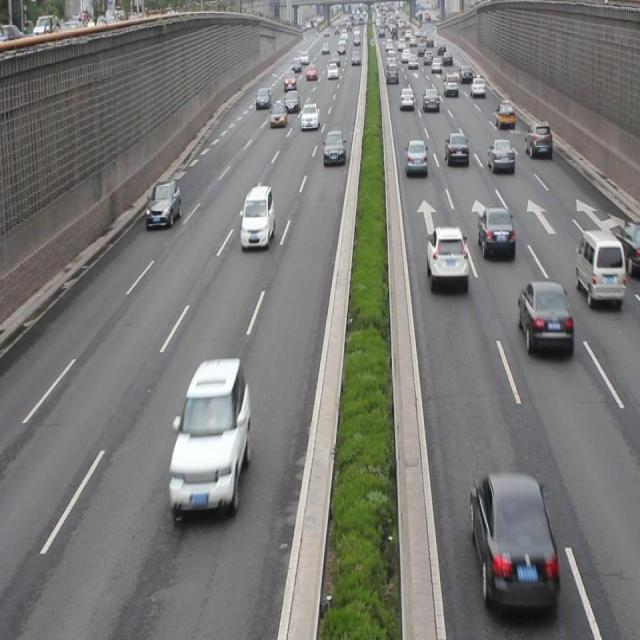car: (167, 359, 251, 514), (469, 469, 557, 604), (517, 280, 572, 354), (425, 225, 468, 287), (477, 205, 517, 262), (240, 186, 274, 248), (144, 179, 180, 228), (523, 121, 551, 159), (486, 136, 513, 173), (322, 128, 346, 168), (403, 138, 428, 176), (443, 130, 468, 166), (495, 100, 515, 130)
truck: (575, 229, 623, 306)
